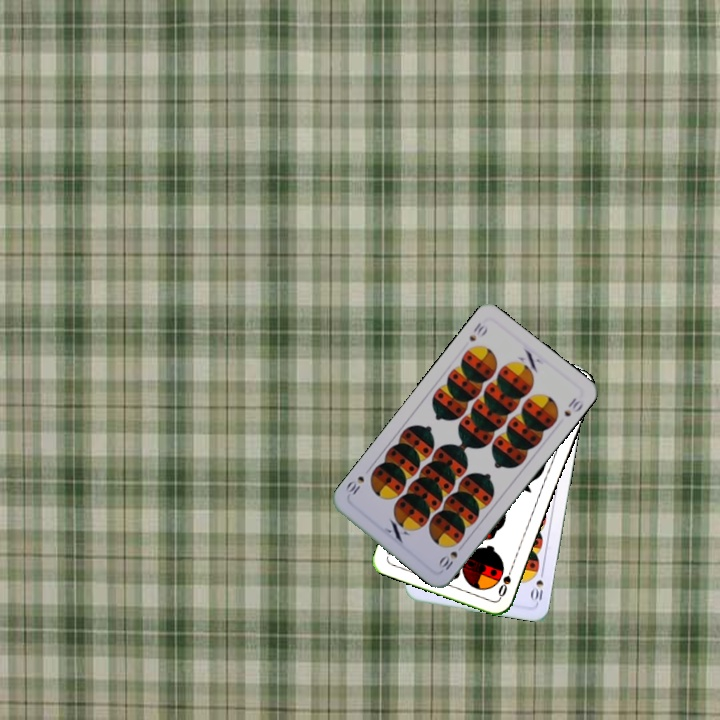S10: (435, 539, 466, 573), (528, 565, 547, 606), (465, 318, 491, 344)
SO: (494, 562, 516, 601)
